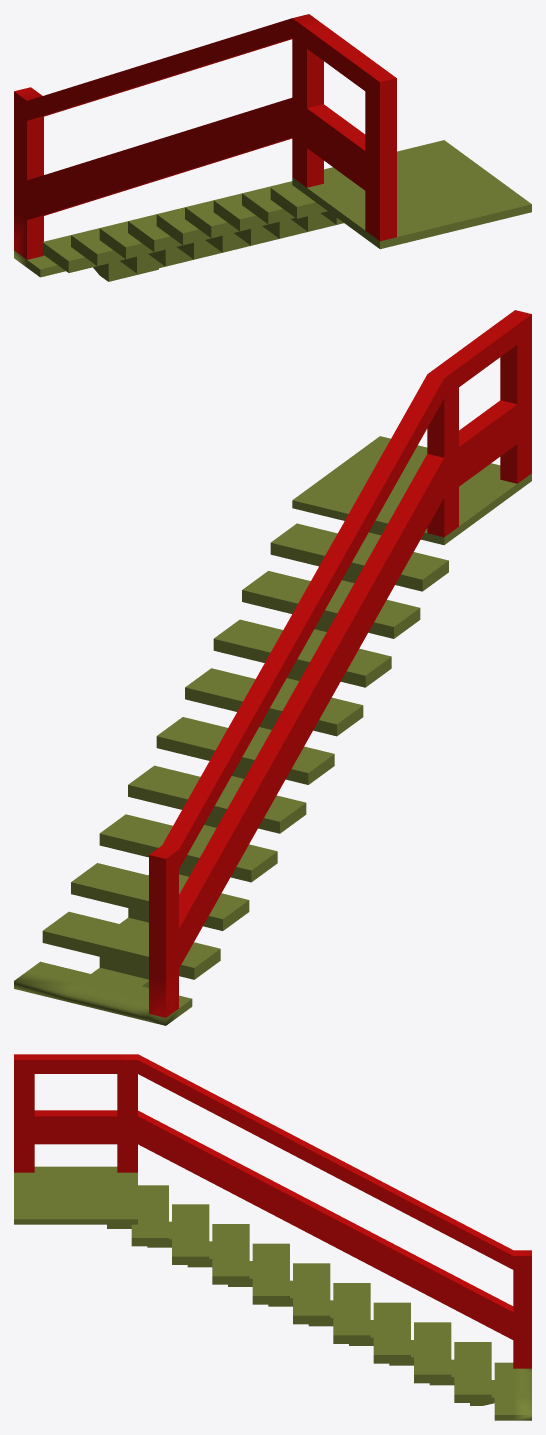
Rendered from Stair.fbx.
3 renders of one model, top to bottom at view 1: azimuth 30°, elevation 25°; view 2: azimuth 150°, elevation 25°; view 3: azimuth 270°, elevation 25°, orthographic. The views are drawn at different scales.
Visible parts, largest first — view 1: Stair; view 2: Stair; view 3: Stair.
Boxes of the visible parts, x1=… form: Stair: x1=14, y1=14, x2=531, y2=281; Stair: x1=14, y1=310, x2=531, y2=1025; Stair: x1=14, y1=1054, x2=531, y2=1420.
Bounding box in the file's own units: 200 × 563 × 835.
